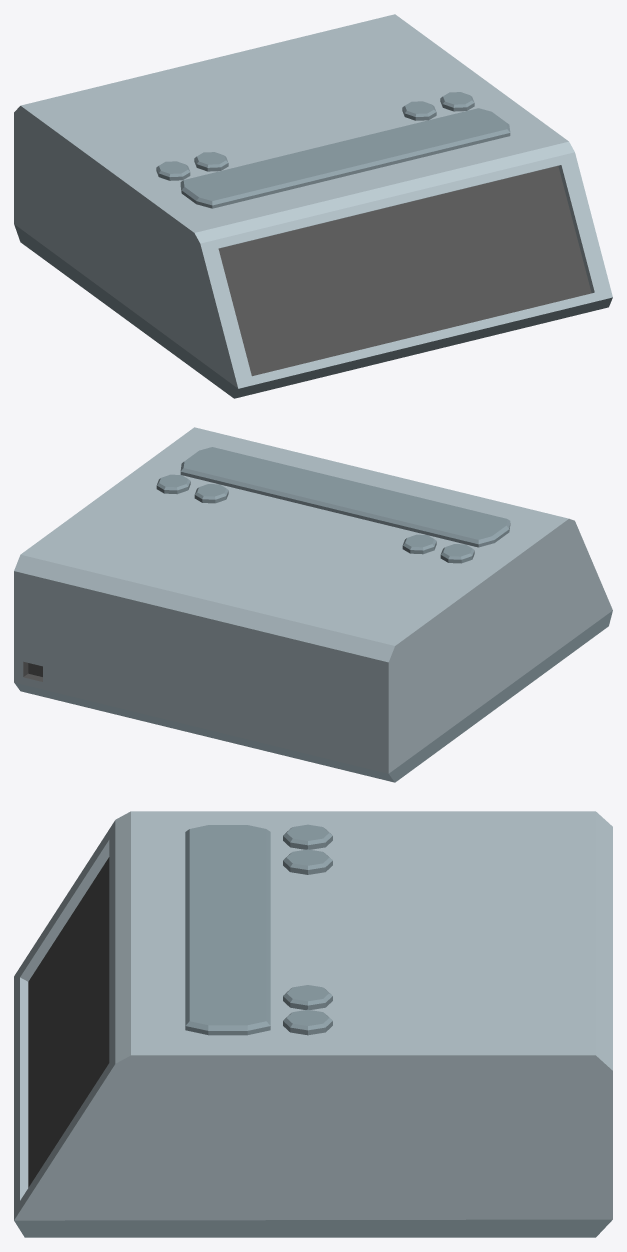
The model's file is clock.fbx.
3 views of the same model, one above another, from view 1: azimuth 30°, elevation 25°; view 2: azimuth 150°, elevation 25°; view 3: azimuth 270°, elevation 25° (orthographic). The views are drawn at different scales.
Parts seen in each view (by area): view 1: Digital_clock_Cube; view 2: Digital_clock_Cube; view 3: Digital_clock_Cube.
Boxes of the visible parts, x1,y1,x2,y2 form: Digital_clock_Cube: (14,14,612,398); Digital_clock_Cube: (14,427,612,782); Digital_clock_Cube: (14,811,612,1237).
Bounding box in the file's own units: 998 × 379 × 1035.
